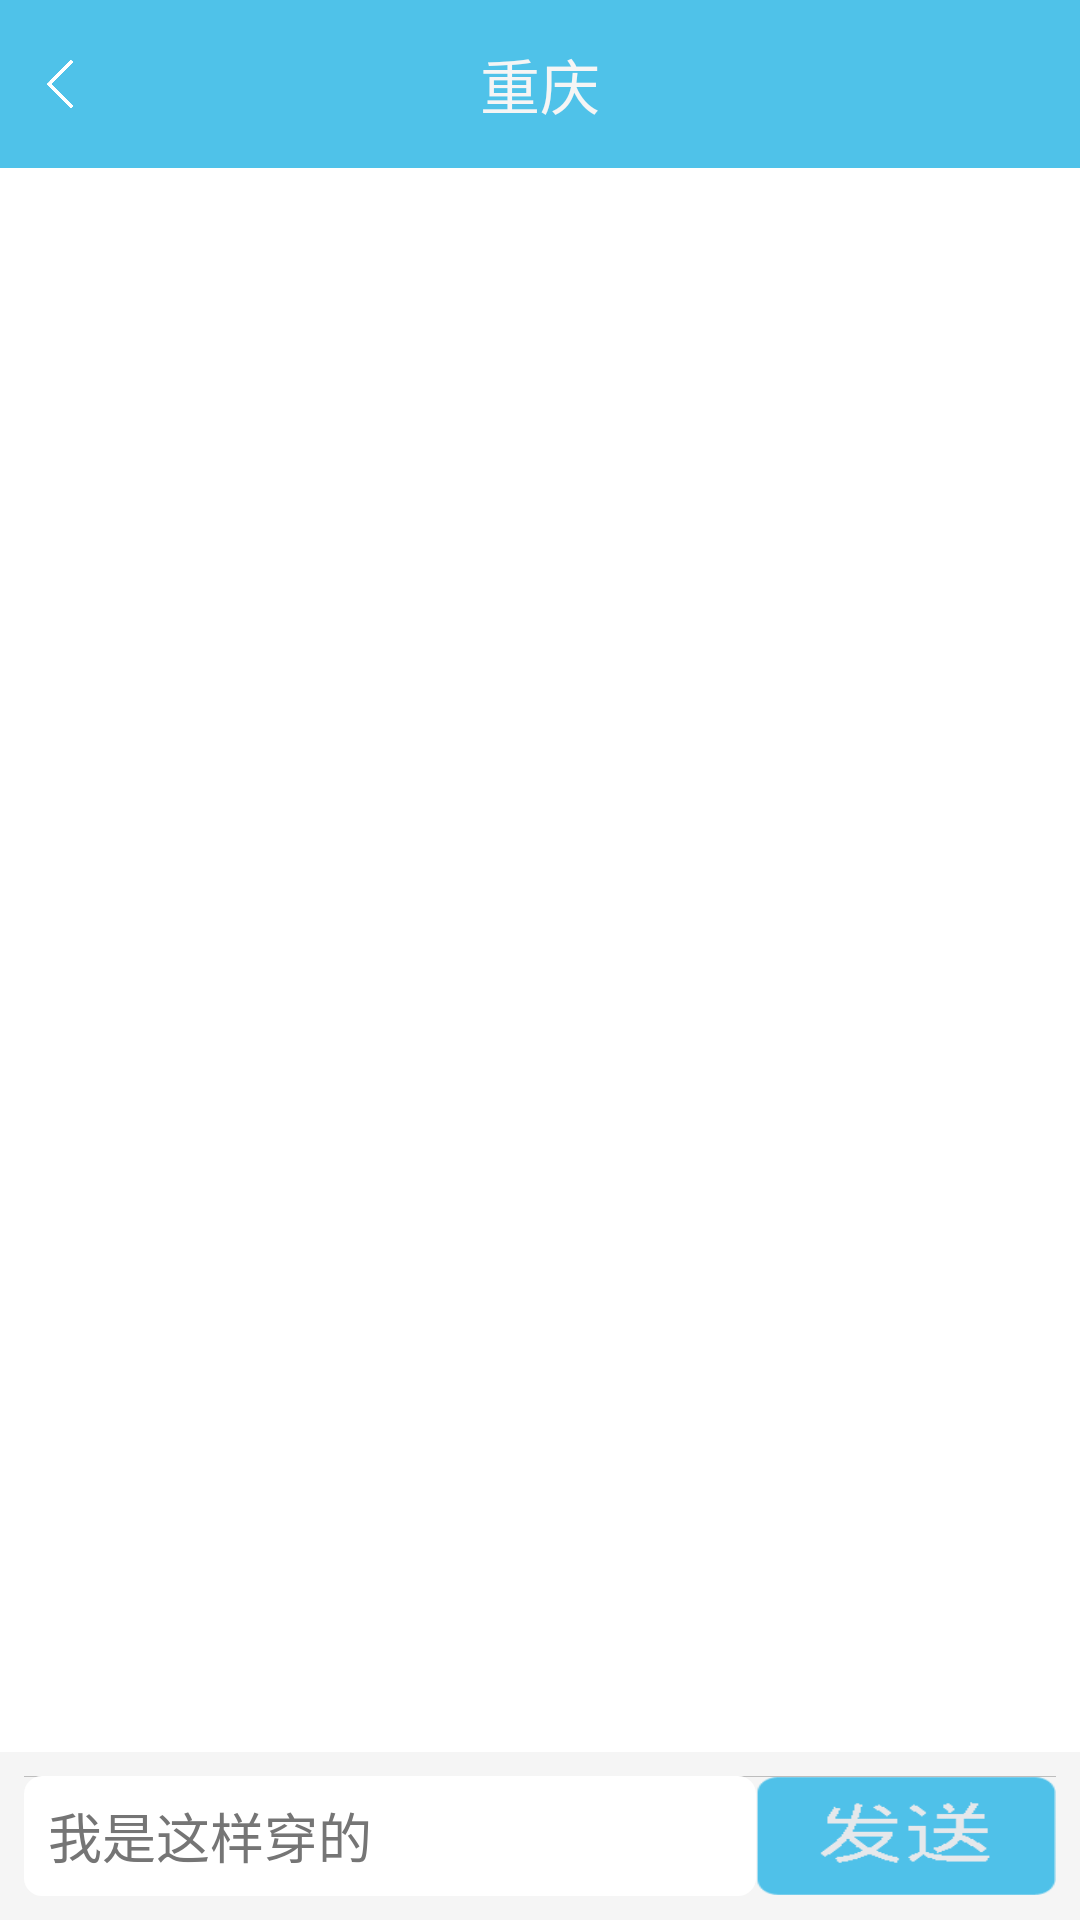

Named icons in this screenshot (1080w x 1920h) and their centers, (x=x, y=y):
back: (x=60, y=84)
